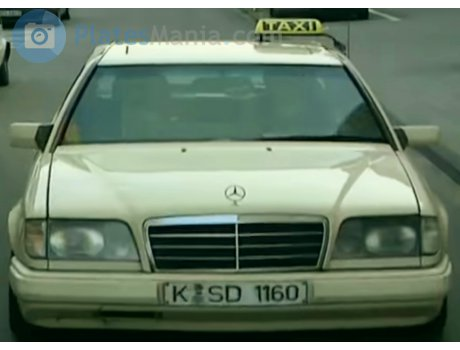License Plates: (167, 283, 303, 302)
